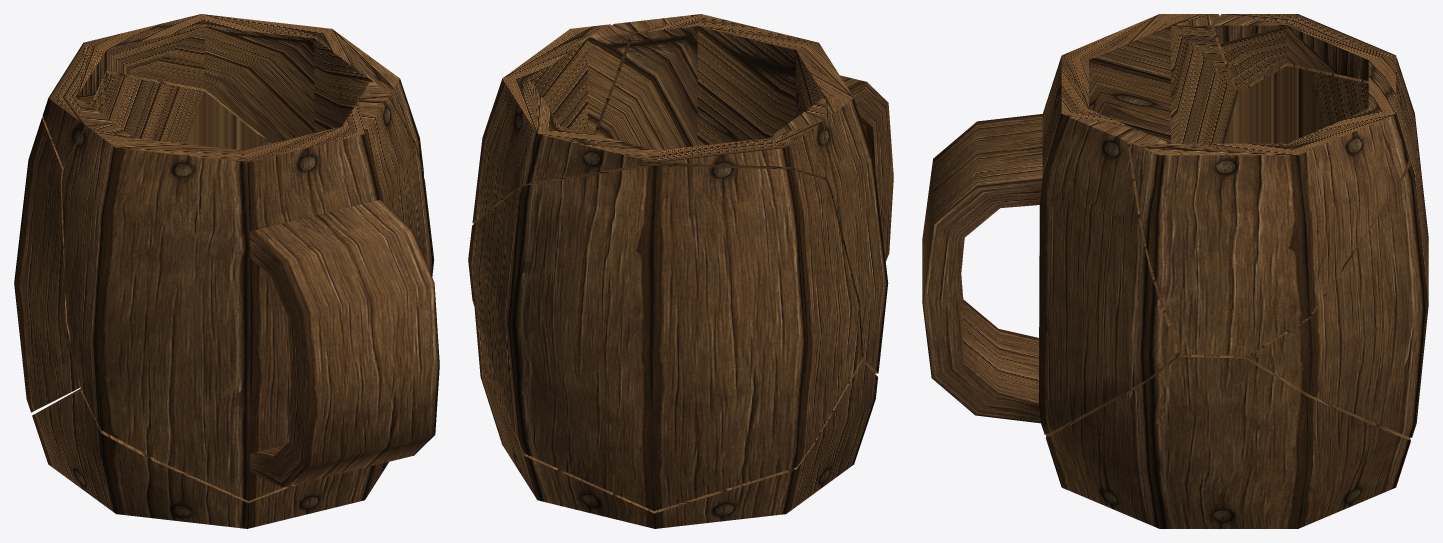
The model's file is Wood_Cup_Drop.fbx.
The picture shows the model from 3 angles, left to right: view 1: azimuth 30°, elevation 25°; view 2: azimuth 150°, elevation 25°; view 3: azimuth 270°, elevation 25°; orthographic projection. The views are drawn at different scales.
Visible parts, largest first — view 1: Wood_Cup_cell.002, Wood_Cup_cell, Wood_Cup_cell.003, Wood_Cup_cell.001; view 2: Wood_Cup_cell.003, Wood_Cup_cell.002, Wood_Cup_cell, Wood_Cup_cell.001; view 3: Wood_Cup_cell.002, Wood_Cup_cell, Wood_Cup_cell.001, Wood_Cup_cell.003.
Boxes of the visible parts, x1,y1,x2,y2 form: Wood_Cup_cell.002: [61, 97, 439, 500]; Wood_Cup_cell: [42, 14, 423, 176]; Wood_Cup_cell.003: [14, 70, 271, 412]; Wood_Cup_cell.001: [32, 388, 388, 528]; Wood_Cup_cell.003: [468, 165, 861, 510]; Wood_Cup_cell.002: [593, 14, 893, 373]; Wood_Cup_cell: [472, 24, 825, 223]; Wood_Cup_cell.001: [474, 308, 877, 528]; Wood_Cup_cell.002: [922, 14, 1236, 434]; Wood_Cup_cell: [1130, 14, 1409, 355]; Wood_Cup_cell.001: [1046, 352, 1410, 528]; Wood_Cup_cell.003: [1222, 58, 1428, 437].
Size of the model in its own units: 27.65 by 28.55 by 35.04.
